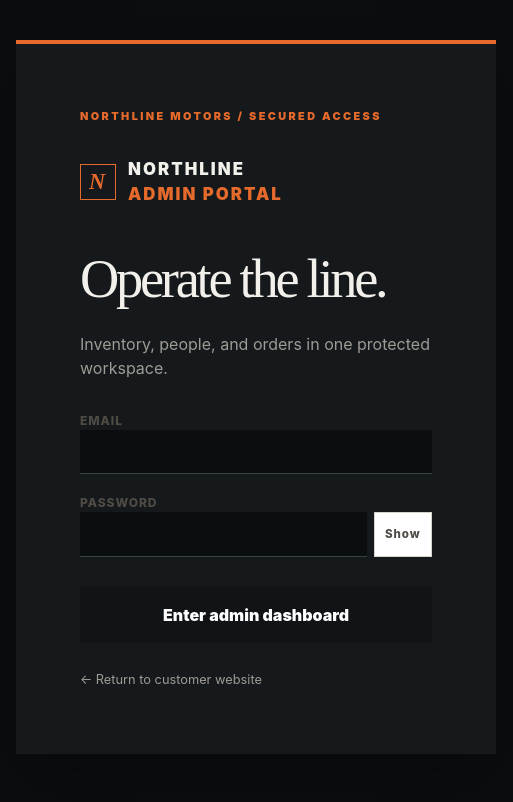
Test case: AdminLoginPage › accepts an administrator and rejects a normal role without saving a session
This screenshot has width=513, height=802.
In the field named "Admin email": point(256, 452) left=80, top=430, right=432, bottom=474, type "user@example.com"
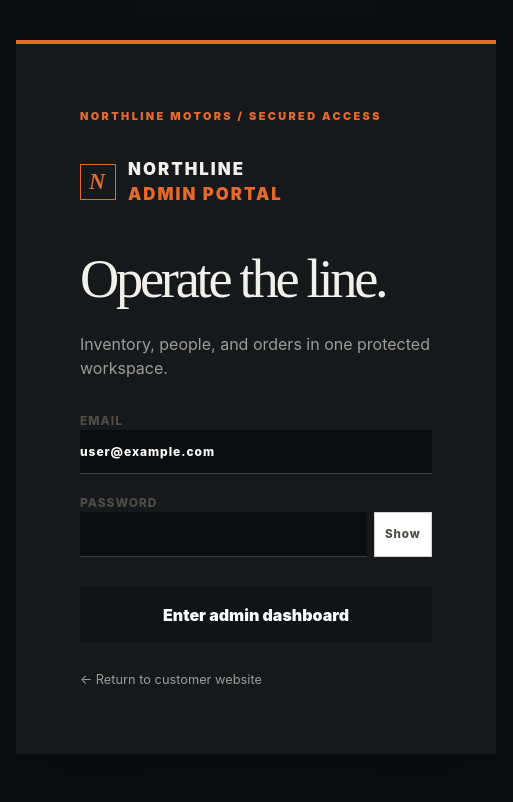
In the password field named "Admin password": point(224, 535) left=80, top=512, right=367, bottom=557, type "correct horse battery staple"
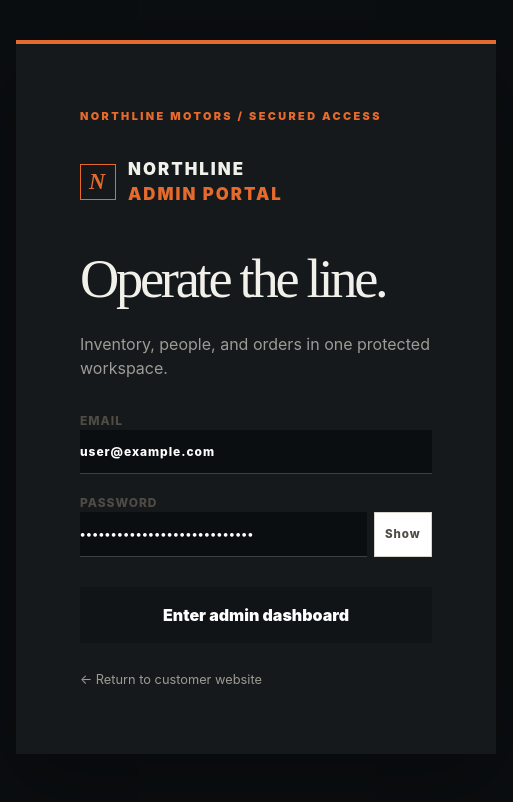
Click the button "Enter admin dashboard": point(256, 614) left=80, top=586, right=432, bottom=642
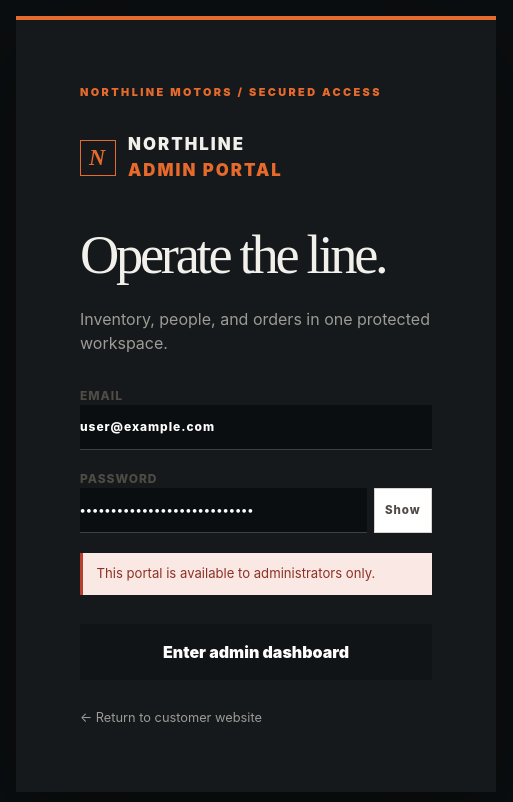
Expected: the message shows "administrators only", left=97, top=565, right=375, bottom=581
